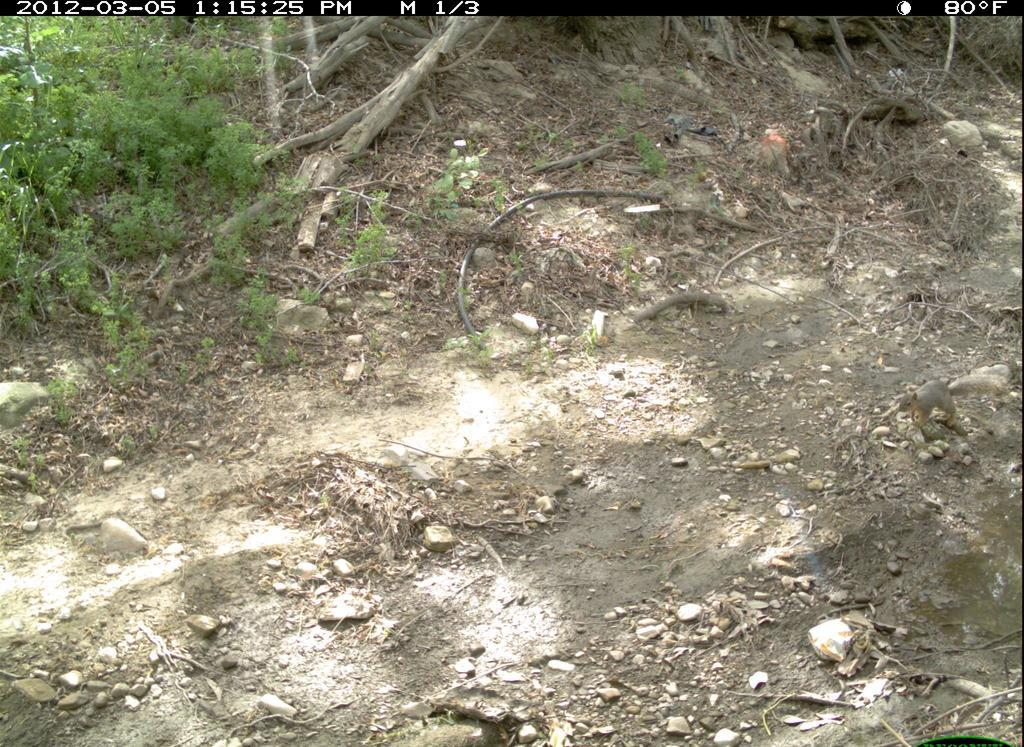squirrel: (897, 378, 1006, 430)
